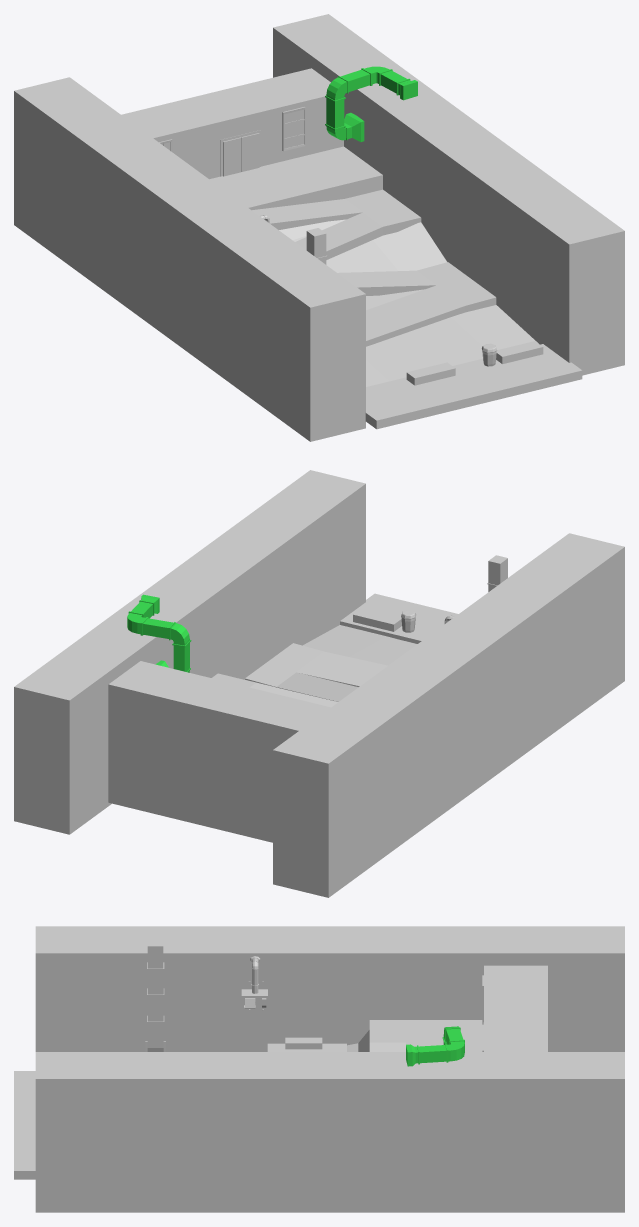
Rendered from First_Level_Blockout.fbx.
3 renders of one model, top to bottom at view 1: azimuth 30°, elevation 25°; view 2: azimuth 150°, elevation 25°; view 3: azimuth 270°, elevation 25°, orthographic.
Visible parts, largest first — view 1: Cube.002, Cube.001, Path, Cube.004, Cube.008, Airvent2_1, Cube, Cube.006, Door1_1.001, Door1_1, Window_Glass1_2, Airvent1_1; view 2: Cube.002, Cube.001, Cube.004, Path, Cube.008, Airvent2_1, Cube.006; view 3: Cube.001, Cube.002, Path, Cube.004, Airvent1_1, Airvent2_1, Cube.007, Aircondition1_1.
Boxes of the visible parts, <box> form: Cube.002: <box>14,77,365,441</box>; Cube.001: <box>273,14,624,375</box>; Path: <box>209,146,582,429</box>; Cube.004: <box>121,68,343,179</box>; Cube.008: <box>279,219,538,381</box>; Airvent2_1: <box>325,66,417,141</box>; Cube: <box>406,362,455,385</box>; Cube.006: <box>496,341,543,364</box>; Door1_1.001: <box>241,133,259,171</box>; Door1_1: <box>223,137,241,176</box>; Window_Glass1_2: <box>284,109,303,148</box>; Airvent1_1: <box>306,228,327,264</box>; Cube.002: <box>273,533,624,897</box>; Cube.001: <box>14,470,365,834</box>; Cube.004: <box>108,661,330,842</box>; Path: <box>211,593,458,707</box>; Cube.008: <box>244,625,417,685</box>; Airvent2_1: <box>127,594,191,672</box>; Cube.006: <box>353,608,401,631</box>; Cube.001: <box>35,1052,624,1212</box>; Cube.002: <box>35,926,624,1051</box>; Path: <box>14,1020,483,1179</box>; Cube.004: <box>484,965,547,1051</box>; Airvent1_1: <box>145,940,165,1051</box>; Airvent2_1: <box>406,1026,464,1066</box>; Cube.007: <box>285,1037,322,1049</box>; Aircondition1_1: <box>241,989,267,1009</box>.
Size of the model in its own units: 2193 by 1015 by 3710.
